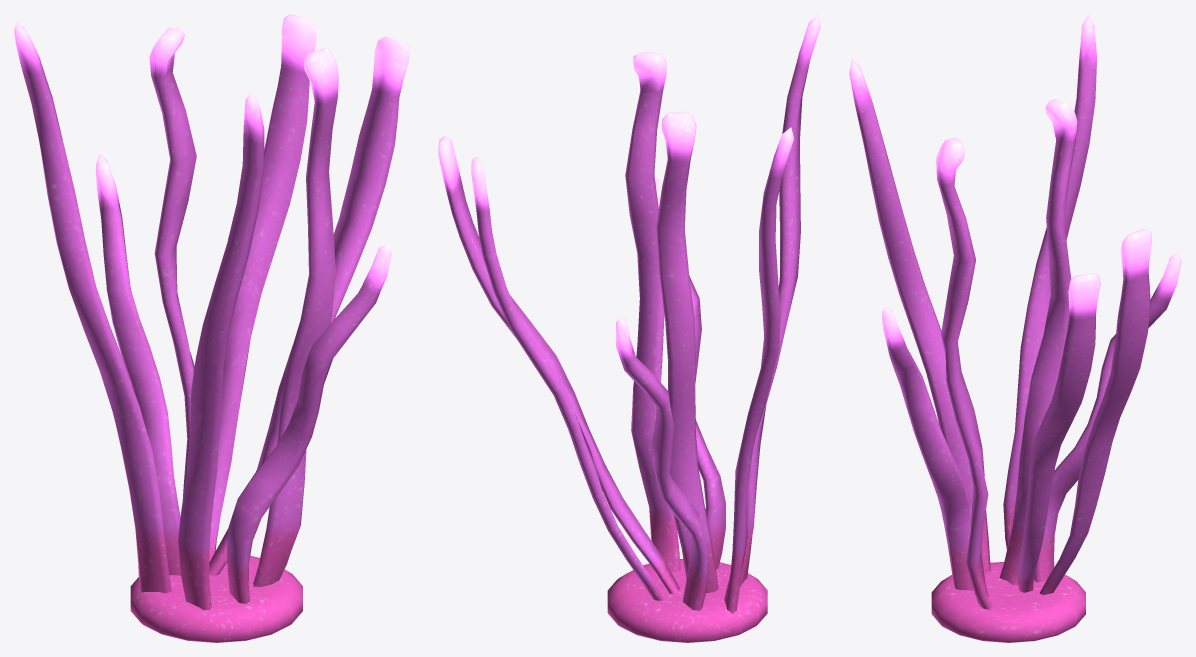
The model's file is PlantSeaweed01_3.FBX.
3 renders of one model, left to right at view 1: azimuth 30°, elevation 25°; view 2: azimuth 150°, elevation 25°; view 3: azimuth 270°, elevation 25°, orthographic. The views are drawn at different scales.
Visible parts, largest first — view 1: PlantSeaweed01_3; view 2: PlantSeaweed01_3; view 3: PlantSeaweed01_3.
Part boxes in pixels (x1,y1,x2,y2): PlantSeaweed01_3: (14, 14, 409, 642); PlantSeaweed01_3: (438, 14, 820, 642); PlantSeaweed01_3: (849, 14, 1181, 642).
Size of what is drawn, in the model's own units: 0.5036 by 0.7334 by 0.4184.
